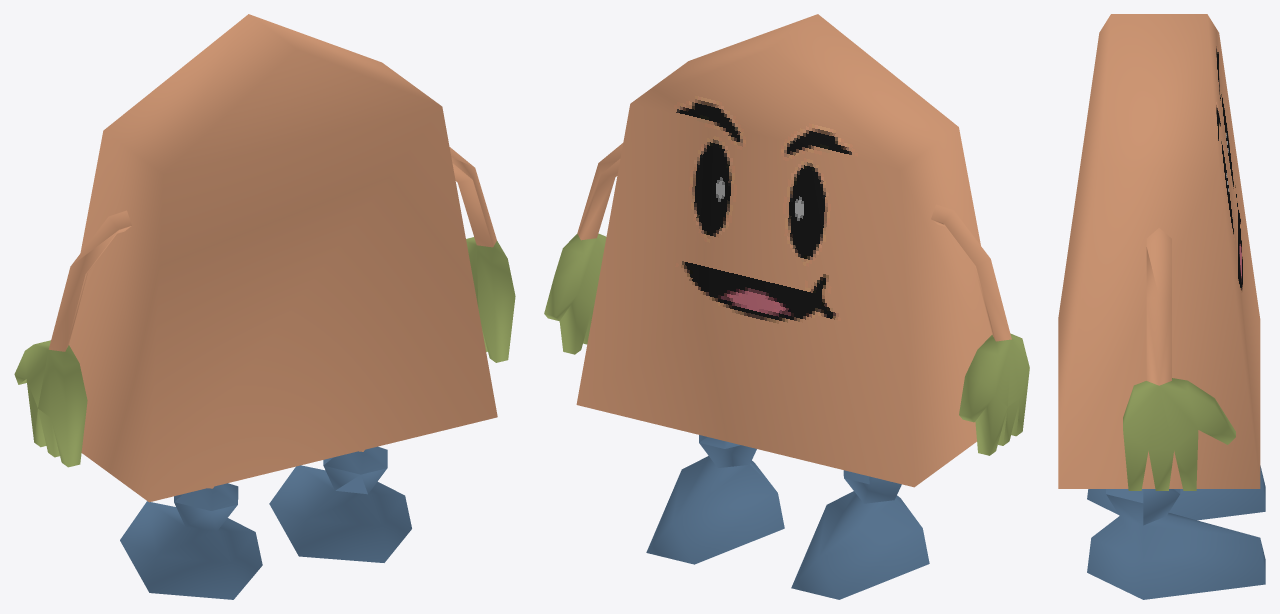
Rendered from ps2_save-icons_kousokutanigawashogi-systemdata.glb.
3 renders of one model, left to right at view 1: azimuth 30°, elevation 25°; view 2: azimuth 150°, elevation 25°; view 3: azimuth 270°, elevation 25°, orthographic. The views are drawn at different scales.
Parts seen in each view (by area): view 1: view.ico; view 2: view.ico; view 3: view.ico.
Part boxes in pixels (x1,y1,x2,y2): view.ico: [14, 14, 515, 599]; view.ico: [544, 14, 1029, 599]; view.ico: [1058, 14, 1265, 599].
Bounding box in the file's own units: 3.93 × 4.32 × 1.56.
Materials: 1 (1 with a texture image).
